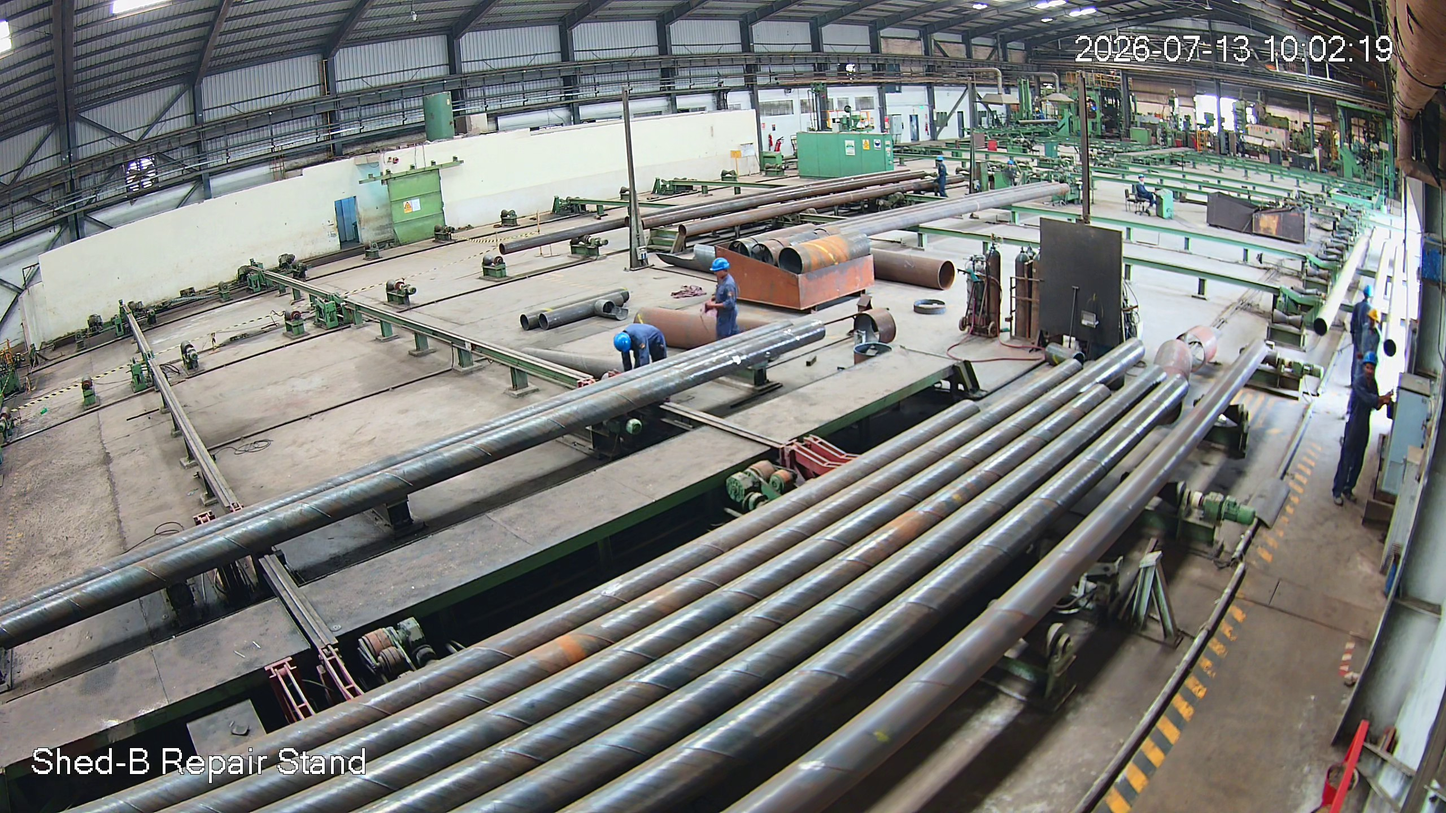Helmet: (1358, 350, 1382, 382), (608, 332, 635, 359), (708, 255, 733, 280)
Person: (1331, 354, 1383, 514), (611, 324, 670, 385), (706, 256, 742, 343)
